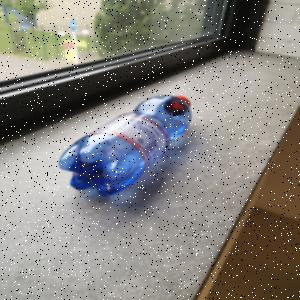Plastic-bottle: (59, 95, 195, 199)
